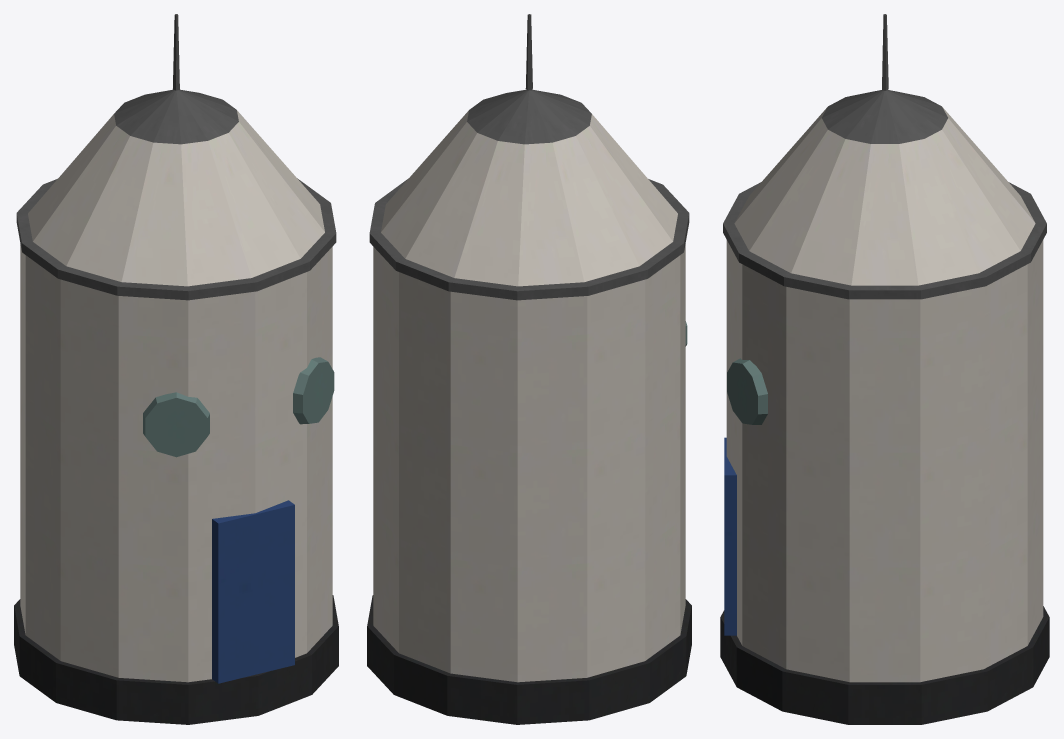
Rendered from capsule_house_01.glb.
3 views of the same model, side by side, from view 1: azimuth 30°, elevation 25°; view 2: azimuth 150°, elevation 25°; view 3: azimuth 270°, elevation 25° (orthographic).
Parts seen in each view (by area): view 1: capsule_house_01; view 2: capsule_house_01; view 3: capsule_house_01.
Boxes of the visible parts, x1,y1,x2,y2 form: capsule_house_01: (14,14,338,724); capsule_house_01: (367,14,691,724); capsule_house_01: (720,14,1049,724).
Bounding box in the file's own units: 2.54 × 5.6 × 2.6.
Materials: 5 (5 with a texture image).
